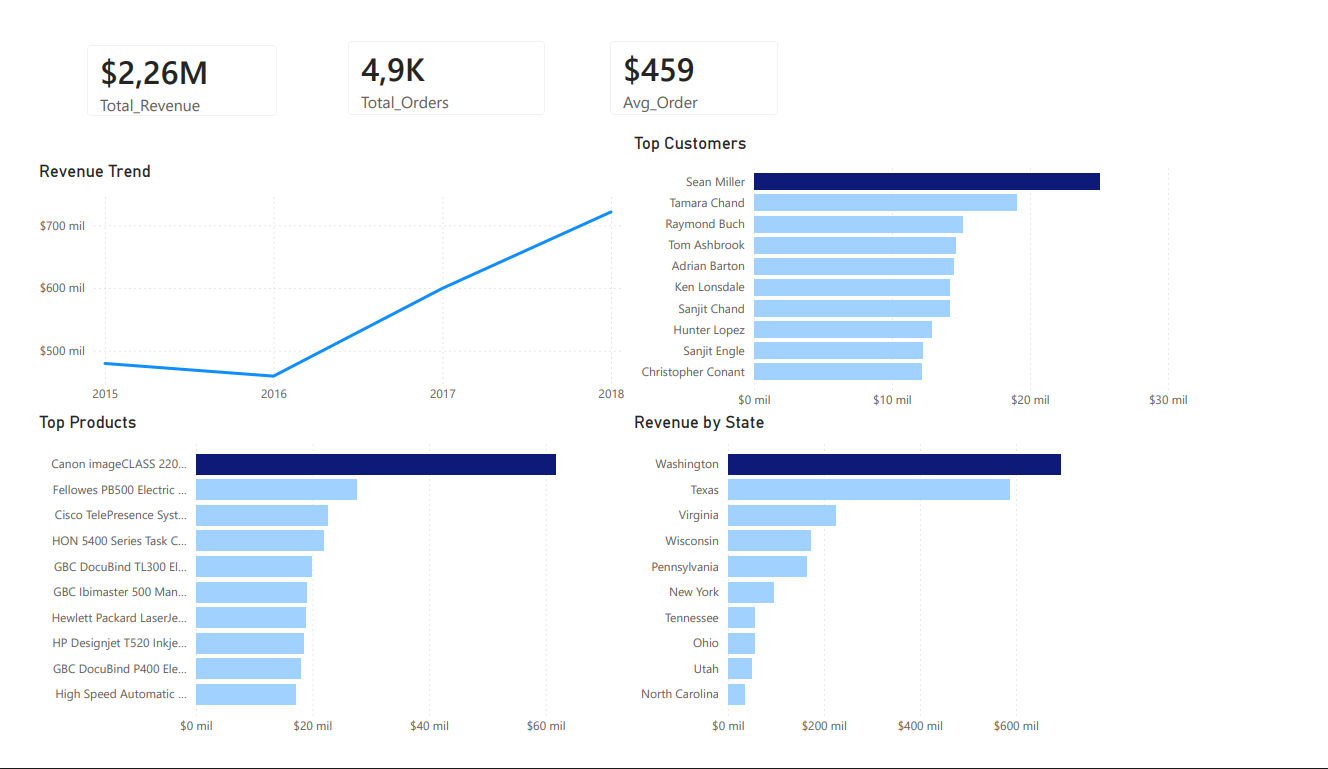

This screenshot's page, from the dashboard's own definition file:
{"tool":"powerbi","page":{"name":"Página 1","canvas":[1280,720],"ordinal":0},"visuals":[{"type":"barChart","title":"Top Customers","fields":{"Category":["dim_customer.customer_name"],"Y":["fact_sales.Total Revenue"]},"box":[605,108.9,564.1,285],"z":3000},{"type":"lineChart","title":"Revenue Trend","fields":{"Category":["dim_date.full_date.Variación.Jerarquía de fechas.Año","dim_date.full_date.Variación.Jerarquía de fechas.Trimestre","dim_date.full_date.Variación.Jerarquía de fechas.Mes","dim_date.full_date.Variación.Jerarquía de fechas.Día"],"Y":["fact_sales.Total Revenue"]},"box":[9.7,137.1,595.3,250.9],"z":4000},{"type":"barChart","title":"Top Products","fields":{"Category":["dim_product.product_name"],"Y":["fact_sales.Total Revenue"]},"box":[9.7,388.1,595.3,331.7],"z":5000},{"type":"barChart","title":"Revenue by State","fields":{"Category":["dim_customer.state"],"Y":["fact_sales.Total Revenue"]},"box":[605,388.1,463,331.7],"z":6000},{"type":"cardVisual","fields":{"Data":["fact_sales.Total Revenue Display"]},"box":[45.7,3.9,224.7,105],"z":6003},{"type":"cardVisual","fields":{"Data":["fact_sales.Total Orders Display"]},"box":[307.4,0,231.5,108.9],"z":6004},{"type":"cardVisual","fields":{"Data":["fact_sales.Avg Order Display"]},"box":[569,0,202.3,108.9],"z":6005}]}

Visuals, with their boxes in screenshot pixels (x1, y1, x2, y2), scaled from the page's 1280x720 canvas onto the 1328x769 screenshot:
"Top Customers" barChart: x1=628, y1=116, x2=1213, y2=421
"Revenue Trend" lineChart: x1=10, y1=146, x2=628, y2=414
"Top Products" barChart: x1=10, y1=415, x2=628, y2=768
"Revenue by State" barChart: x1=628, y1=415, x2=1108, y2=768
cardVisual - fact_sales.Total Revenue Display: x1=47, y1=4, x2=281, y2=116
cardVisual - fact_sales.Total Orders Display: x1=319, y1=0, x2=559, y2=116
cardVisual - fact_sales.Avg Order Display: x1=590, y1=0, x2=800, y2=116
